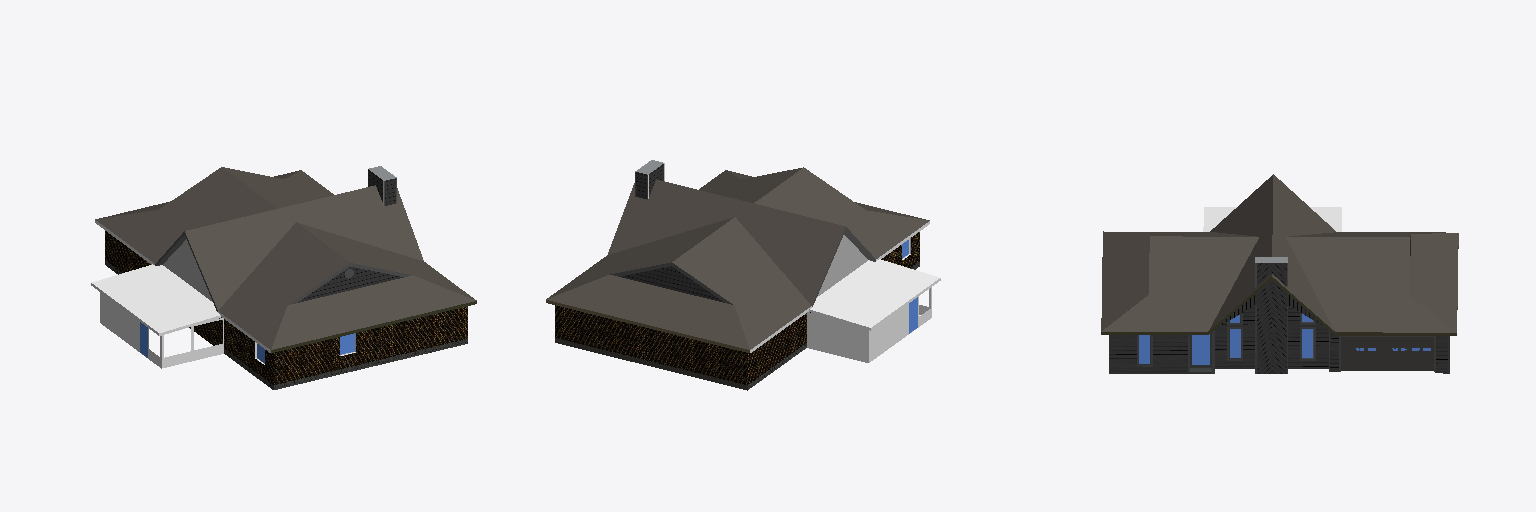
The picture shows the model from 3 angles: view 1: azimuth 30°, elevation 25°; view 2: azimuth 150°, elevation 25°; view 3: azimuth 270°, elevation 25°; orthographic projection.
Parts seen in each view (by area): view 1: Mesh29 Model; view 2: Mesh29 Model; view 3: Mesh29 Model, Mesh7 Group1_1_1 Model, Mesh3 Group2_1_1 Model.
Boxes of the visible parts, x1=… form: Mesh29 Model: x1=91, y1=166, x2=476, y2=389; Mesh29 Model: x1=546, y1=160, x2=940, y2=390; Mesh29 Model: x1=1101, y1=174, x2=1458, y2=373; Mesh7 Group1_1_1 Model: x1=1341, y1=337, x2=1433, y2=370; Mesh3 Group2_1_1 Model: x1=1192, y1=334, x2=1209, y2=364.
Size of the model in its own units: 644 by 255 by 740.
16 materials, 3 textured.